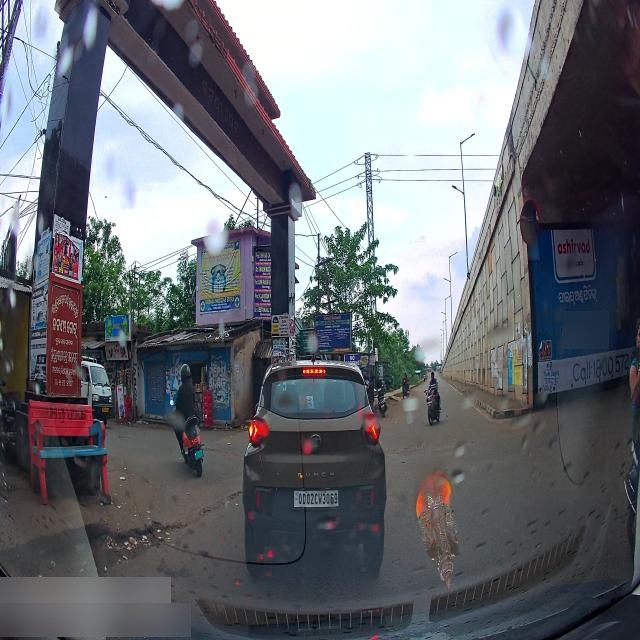pothole: (28, 522, 164, 576)
